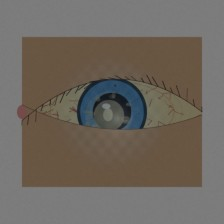corneal_ulcer: (83, 95, 134, 136)
